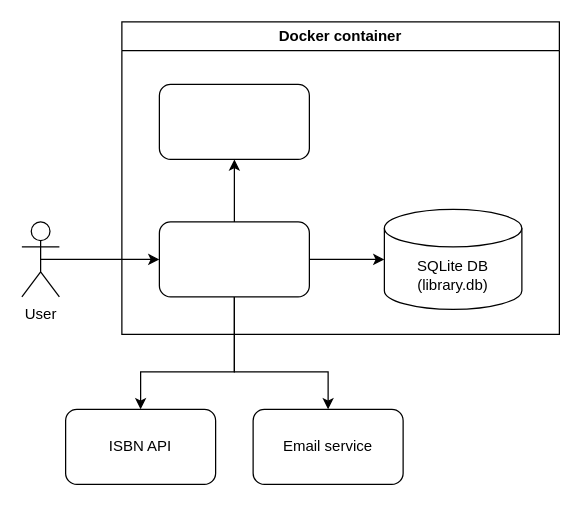
Some shapes in this 581 by 506 pixel diagram are drawn without their labels. Here are the shapes that lost their labels. From the top down, the centre of each, then its label:
the point at 233,121: library-db-core (Python package)
the point at 233,259: Flask App (Python 3.12)
